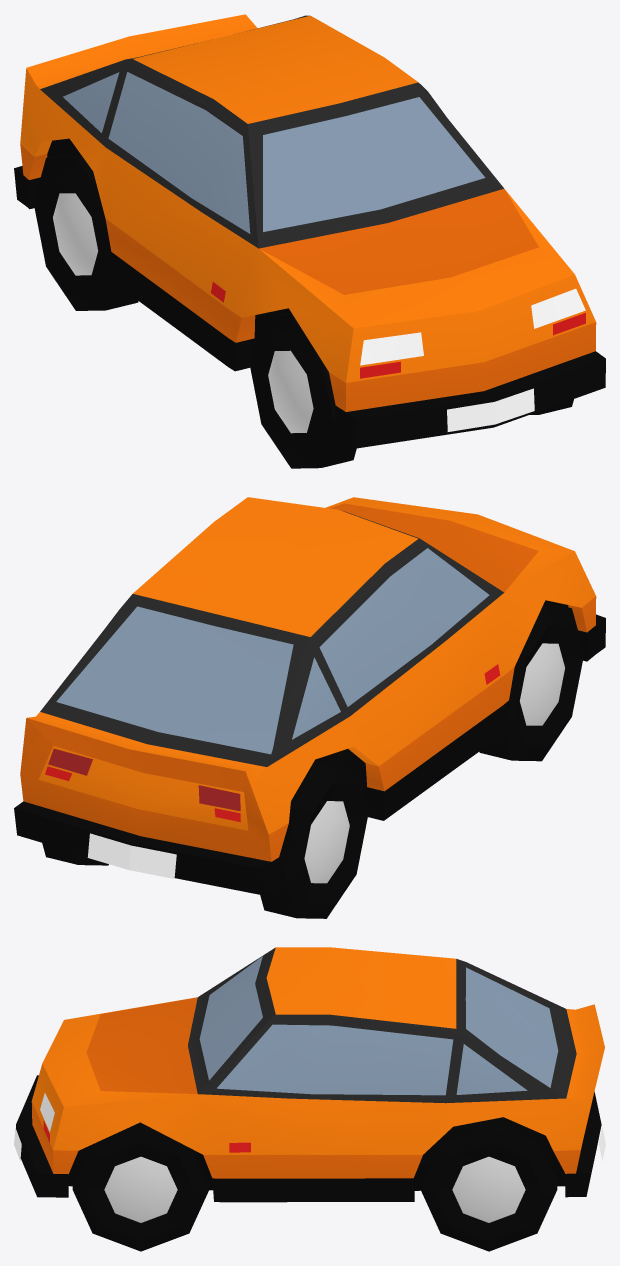
The model's file is sedan_orange.glb.
3 renders of one model, top to bottom at view 1: azimuth 30°, elevation 25°; view 2: azimuth 150°, elevation 25°; view 3: azimuth 270°, elevation 25°, orthographic. The views are drawn at different scales.
Visible parts, largest first — view 1: Object_12; view 2: Object_12; view 3: Object_12.
Boxes of the visible parts, box(x1,y1,x2,y2) form: Object_12: box(14, 14, 605, 468); Object_12: box(14, 497, 605, 918); Object_12: box(14, 947, 605, 1251).
Bounding box in the file's own units: 2.47 × 2.37 × 5.68.
Materials: 1 (1 with a texture image).
